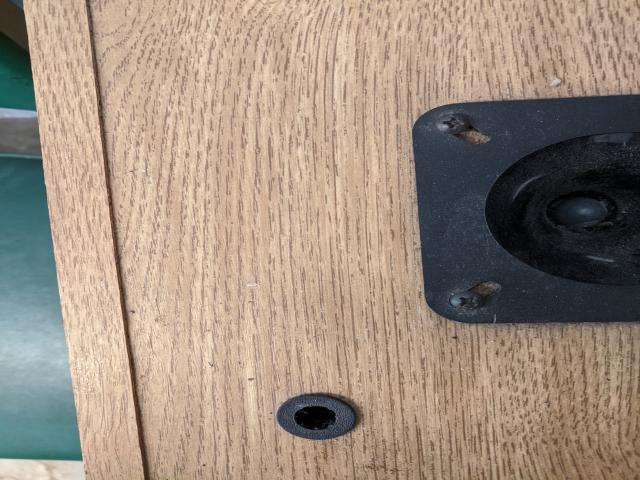CRS: (432, 112, 476, 136), (446, 292, 487, 311)
